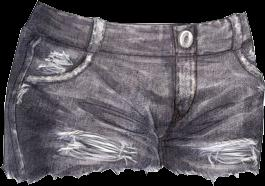Hemline: (0, 166, 162, 182), (162, 165, 257, 180)
Pantleg: (1, 1, 198, 181), (158, 12, 264, 185)
Waistline: (23, 25, 253, 57), (37, 1, 245, 26)
